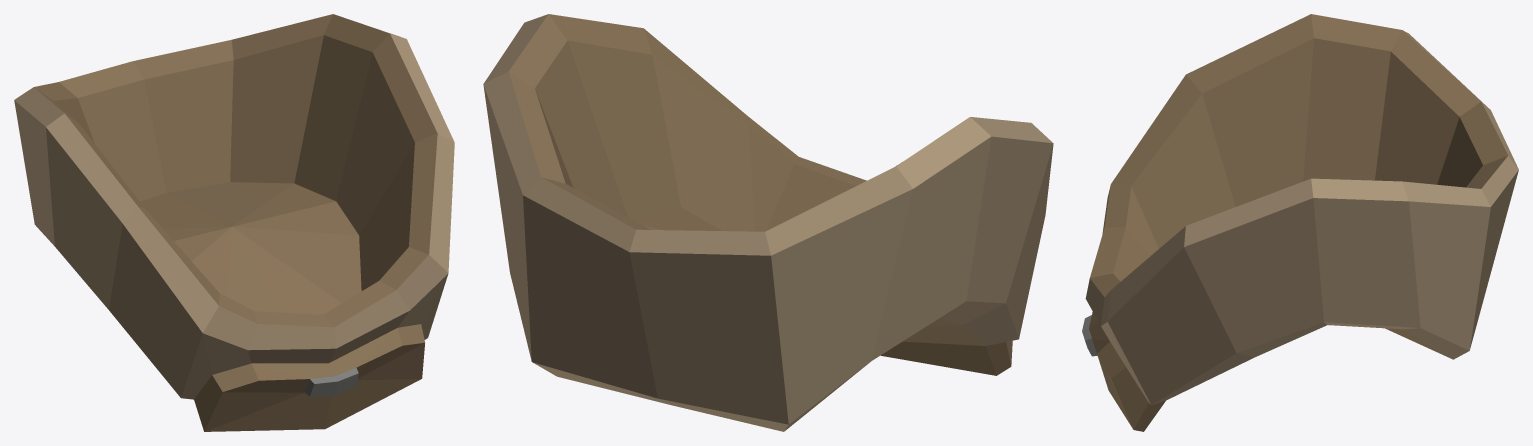
File: SM_Chr_Attach_Bombsuit_Neck_01.fbx
3 views of the same model, side by side, from view 1: azimuth 30°, elevation 25°; view 2: azimuth 150°, elevation 25°; view 3: azimuth 270°, elevation 25° (orthographic). The views are drawn at different scales.
Visible parts, largest first — view 1: SM_Chr_Attach_Bombsuit_Neck_01; view 2: SM_Chr_Attach_Bombsuit_Neck_01; view 3: SM_Chr_Attach_Bombsuit_Neck_01.
Part boxes in pixels (bbox=[...]): SM_Chr_Attach_Bombsuit_Neck_01: bbox=[14, 14, 454, 431]; SM_Chr_Attach_Bombsuit_Neck_01: bbox=[483, 14, 1053, 431]; SM_Chr_Attach_Bombsuit_Neck_01: bbox=[1082, 14, 1518, 431].
Size of the model in its own units: 50.55 by 38.62 by 51.17.
